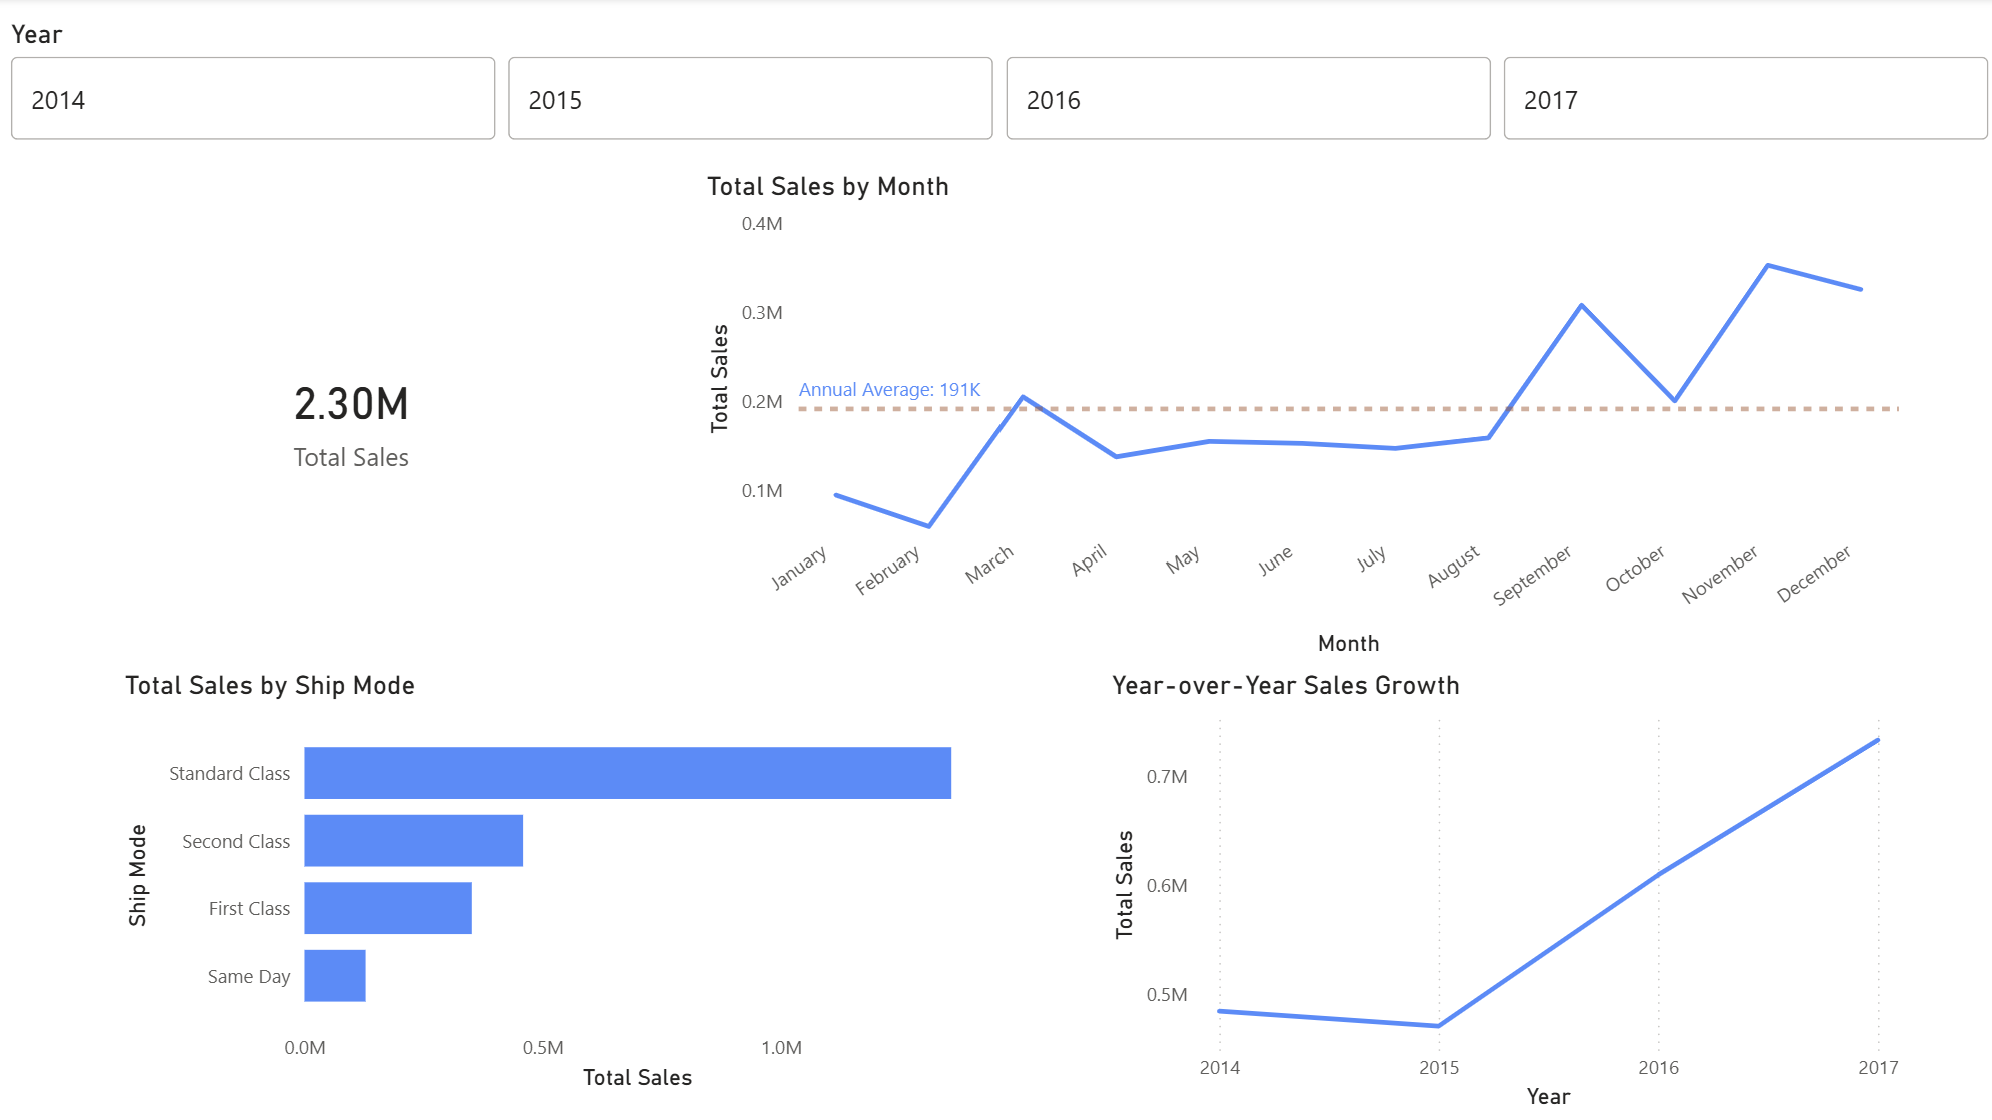

This screenshot's page, from the dashboard's own definition file:
{"tool":"powerbi","page":{"name":"Seasonal Trends","canvas":[1280,720],"ordinal":2},"visuals":[{"type":"lineChart","title":"Year-over-Year Sales Growth","fields":{"Category":["Orders.Order Date.Variation.Date Hierarchy.Year"],"Y":["Orders.Total Sales"]},"box":[705.8,428.7,511.4,284.8],"z":0},{"type":"barChart","fields":{"Y":["Orders.Total Sales"],"Category":["Orders.Ship Mode"]},"box":[78.1,428.7,563.4,272.5],"z":1000},{"type":"lineChart","fields":{"Y":["Orders.Total Sales"],"Category":["Orders.Order Date.Variation.Date Hierarchy.Month"]},"box":[448.8,110.9,768.8,313.6],"z":2000},{"type":"advancedSlicerVisual","fields":{"Values":["Orders.Order Date.Variation.Date Hierarchy.Year"]},"box":[4.6,13.8,1272.3,82.7],"z":3000},{"type":"card","fields":{"Values":["Orders.Total Sales"]},"box":[5,111,444,314],"z":4000}]}

Visuals, with their boxes in screenshot pixels (x1, y1, x2, y2), scaled from the page's 1280x720 canvas onto the 1992x1120 screenshot:
"Year-over-Year Sales Growth" lineChart: locate(1098, 667, 1894, 1110)
barChart - Orders.Total Sales x Orders.Ship Mode: locate(122, 667, 998, 1091)
lineChart - Orders.Total Sales x Orders.Order Date.Variation.Date Hierarchy.Month: locate(698, 173, 1895, 660)
advancedSlicerVisual - Orders.Order Date.Variation.Date Hierarchy.Year: locate(7, 21, 1987, 150)
card - Orders.Total Sales: locate(8, 173, 699, 661)
